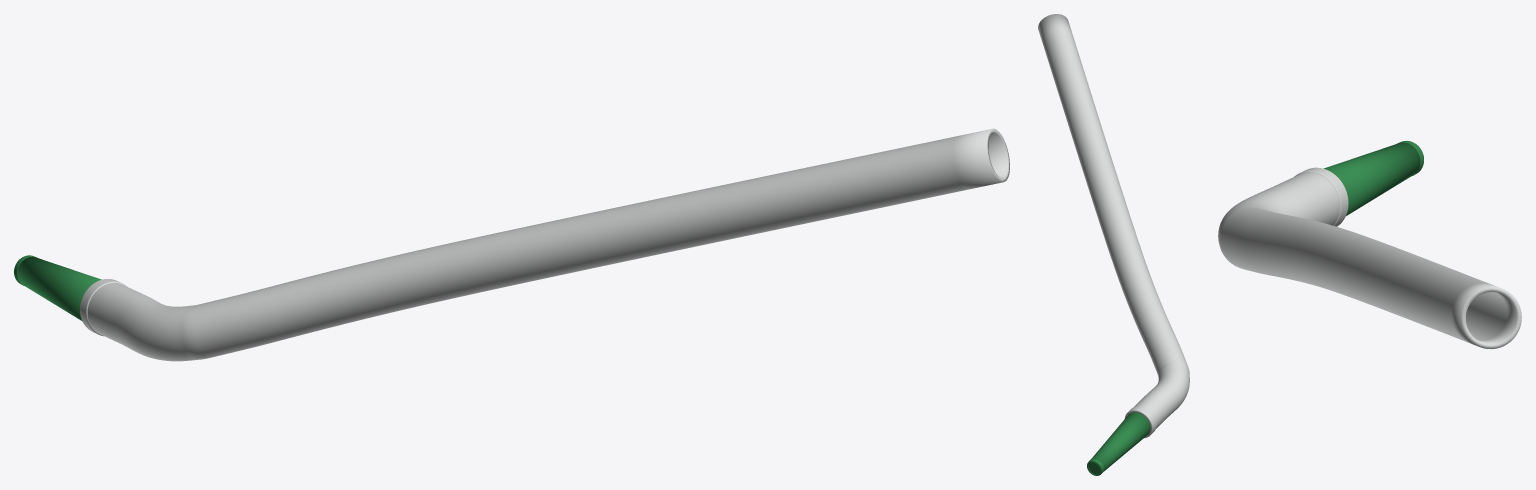
The model's file is suction.glb.
3 renders of one model, left to right at view 1: azimuth 30°, elevation 25°; view 2: azimuth 150°, elevation 25°; view 3: azimuth 330°, elevation 25°, orthographic. The views are drawn at different scales.
Visible parts, largest first — view 1: White cannula with single elbow, Green tapered insert, 2.8 mm lumen; view 2: White cannula with single elbow, Green tapered insert, 2.8 mm lumen, Cone.001; view 3: White cannula with single elbow, Green tapered insert, 2.8 mm lumen, Cone.001.
Part boxes in pixels (x1=…): White cannula with single elbow: x1=87, y1=128, x2=1009, y2=361; Green tapered insert, 2.8 mm lumen: x1=14, y1=256, x2=101, y2=320; White cannula with single elbow: x1=1038, y1=14, x2=1189, y2=428; Green tapered insert, 2.8 mm lumen: x1=1087, y1=412, x2=1150, y2=475; Cone.001: x1=1124, y1=406, x2=1156, y2=438; White cannula with single elbow: x1=1218, y1=172, x2=1521, y2=349; Green tapered insert, 2.8 mm lumen: x1=1324, y1=142, x2=1423, y2=215; Cone.001: x1=1294, y1=167, x2=1348, y2=226.
Size of the model in its own units: 78.65 by 47.13 by 111.
